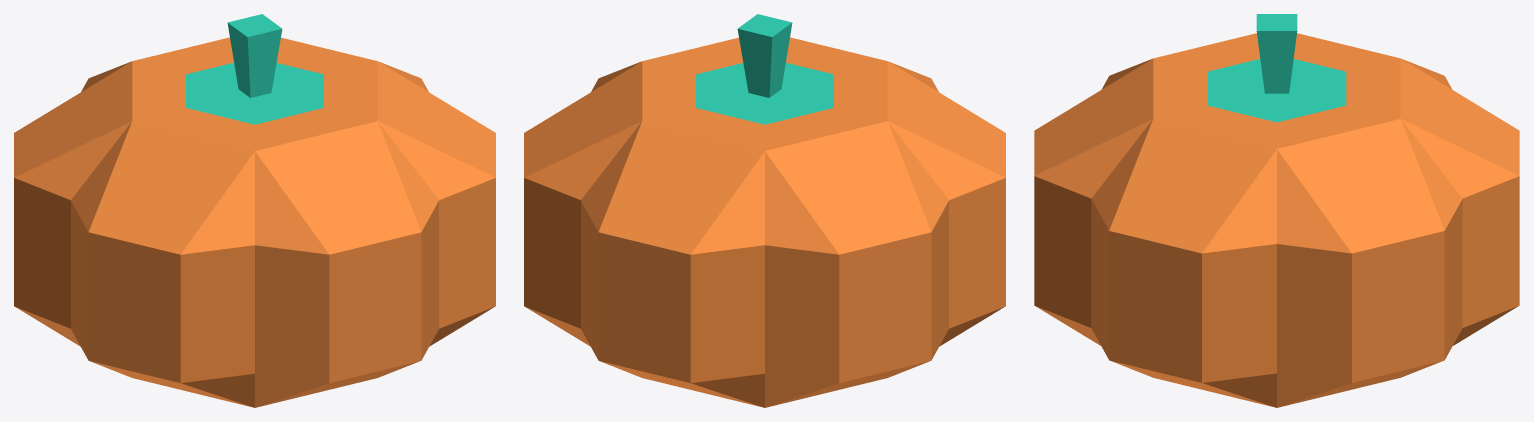
The model's file is crop-pumpkin.glb.
3 views of the same model, side by side, from view 1: azimuth 30°, elevation 25°; view 2: azimuth 150°, elevation 25°; view 3: azimuth 270°, elevation 25° (orthographic).
Parts seen in each view (by area): view 1: crop_pumpkin; view 2: crop_pumpkin; view 3: crop_pumpkin.
Part boxes in pixels (box(x1,y1,x2,y2)): crop_pumpkin: box(14, 14, 495, 407); crop_pumpkin: box(524, 14, 1005, 407); crop_pumpkin: box(1034, 14, 1519, 407).
Size of the model in its own units: 0.4413 by 0.3338 by 0.4519.
